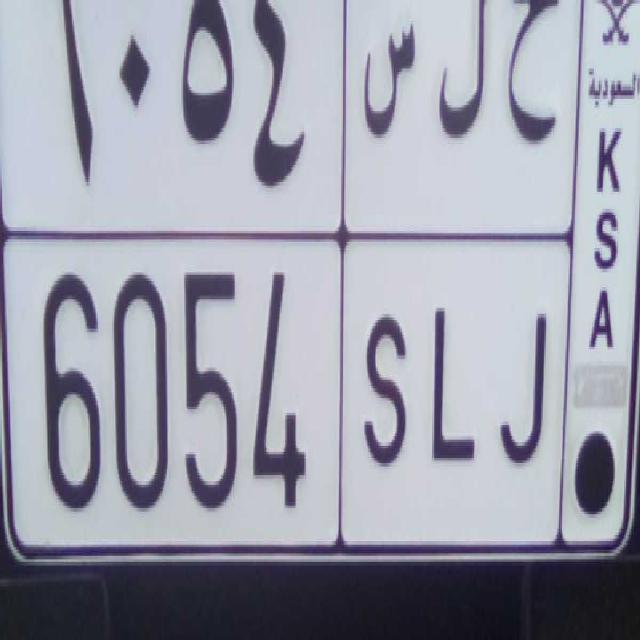license_plate: (18, 220, 556, 521)
